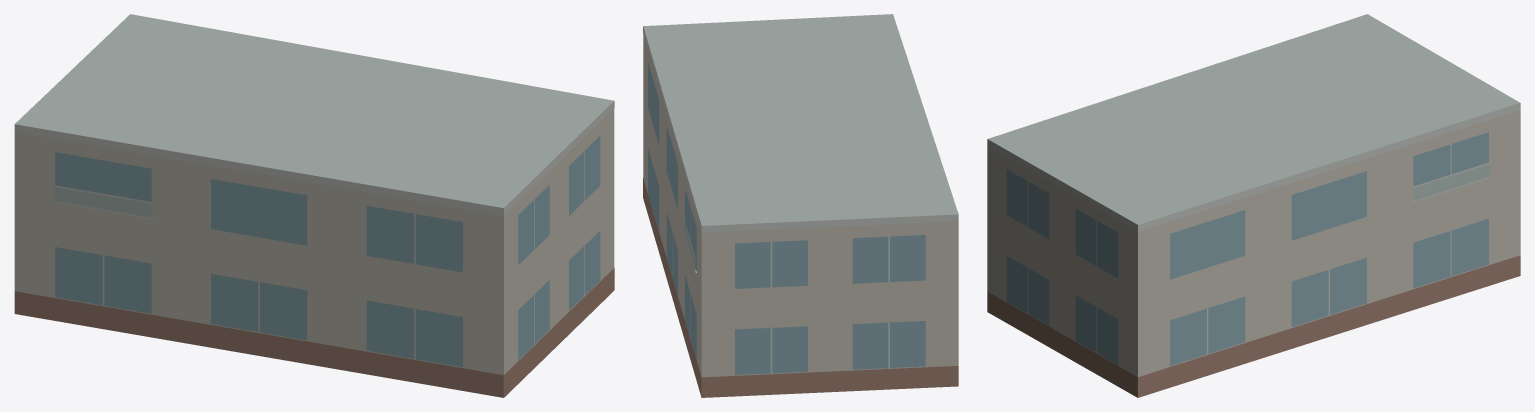
Rendered from survey-upis-32677971.glb.
The picture shows the model from 3 angles, left to right: view 1: azimuth 30°, elevation 25°; view 2: azimuth 150°, elevation 25°; view 3: azimuth 270°, elevation 25°; orthographic projection. The views are drawn at different scales.
Visible parts, largest first — view 1: survey-upis-32677971.tmp; view 2: survey-upis-32677971.tmp; view 3: survey-upis-32677971.tmp.
Boxes of the visible parts, x1,y1,x2,y2 form: survey-upis-32677971.tmp: (14,14,614,397); survey-upis-32677971.tmp: (643,14,958,397); survey-upis-32677971.tmp: (987,14,1520,397).
Bounding box in the file's own units: 15.96 × 6.1 × 17.05.
